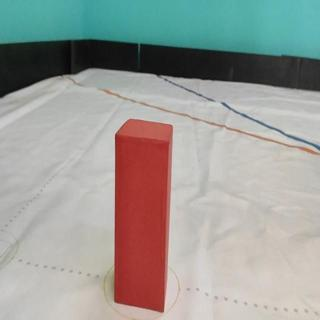redbox: (115, 117, 174, 312)
